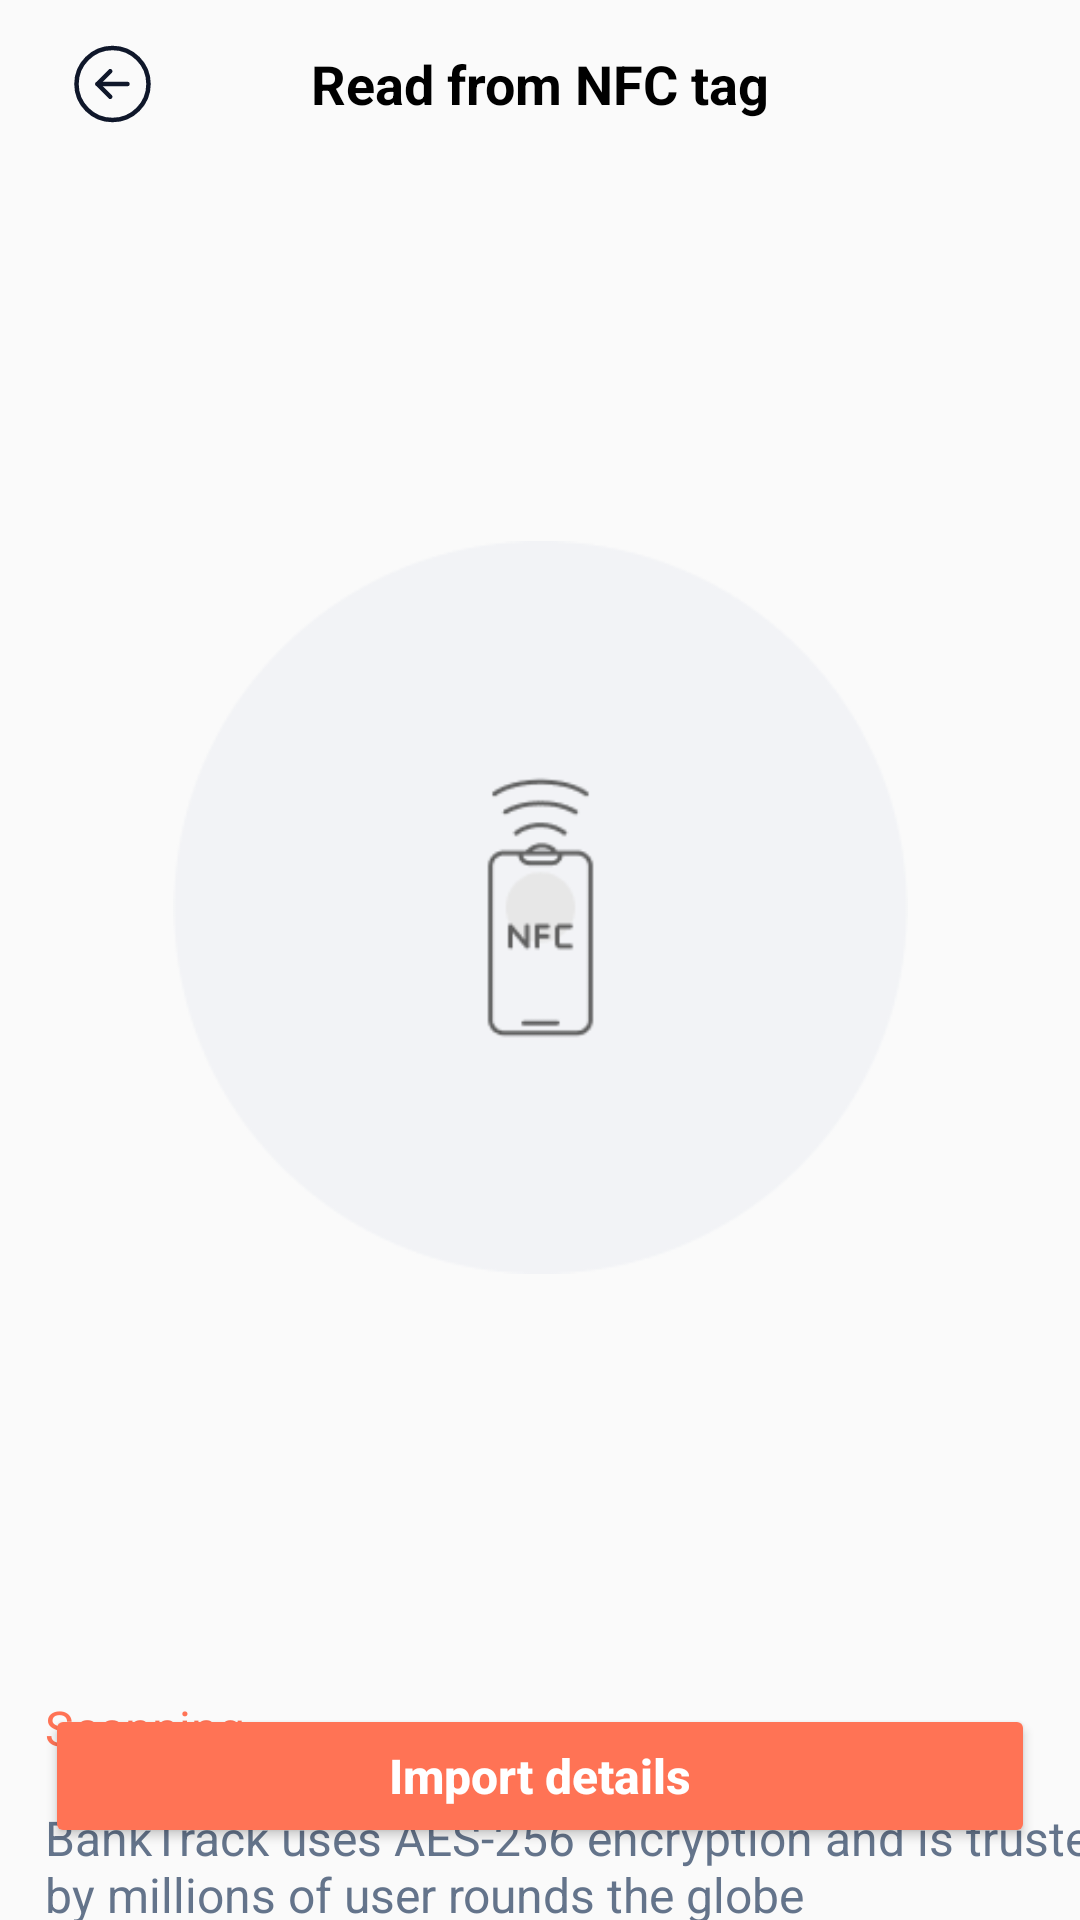

Icon bounding boxes for this 1080*1920 phone screenshot, format (x1, y1, x2, y2):
back: (74, 45, 151, 123)
